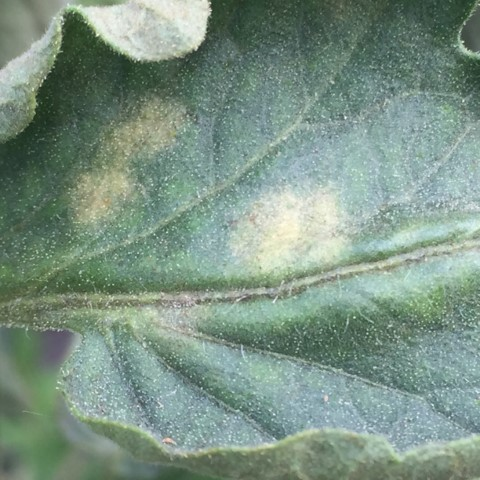blanca: (66, 96, 196, 229), (241, 180, 347, 274)
